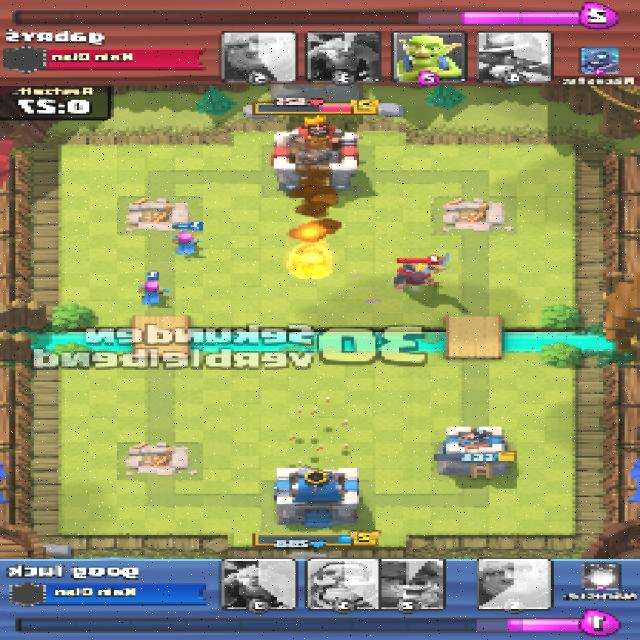Enemy-Fireball: (288, 238, 333, 279)
Enemy-Knight: (392, 250, 455, 290)
Player-Archer: (135, 276, 170, 304), (172, 228, 207, 255)
